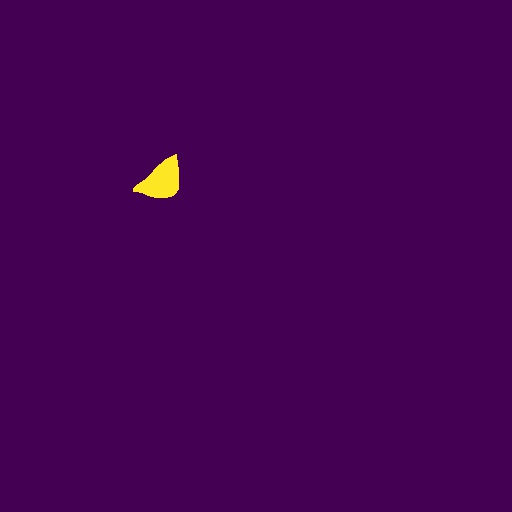Menigiomia_tumour: (133, 154, 179, 198)
